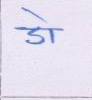o_matra: (42, 14, 58, 43)
